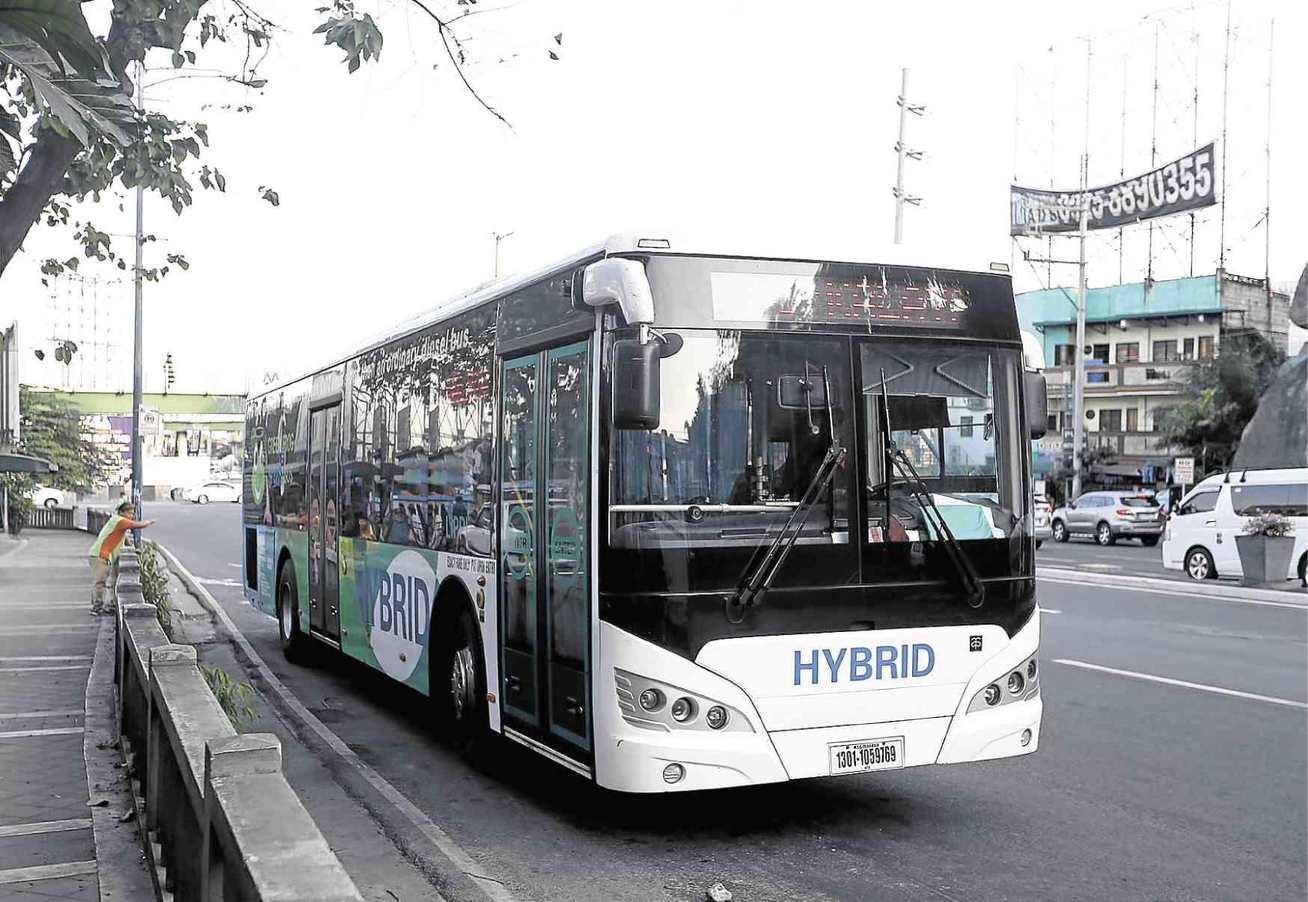Bus: (238, 233, 1045, 798)
